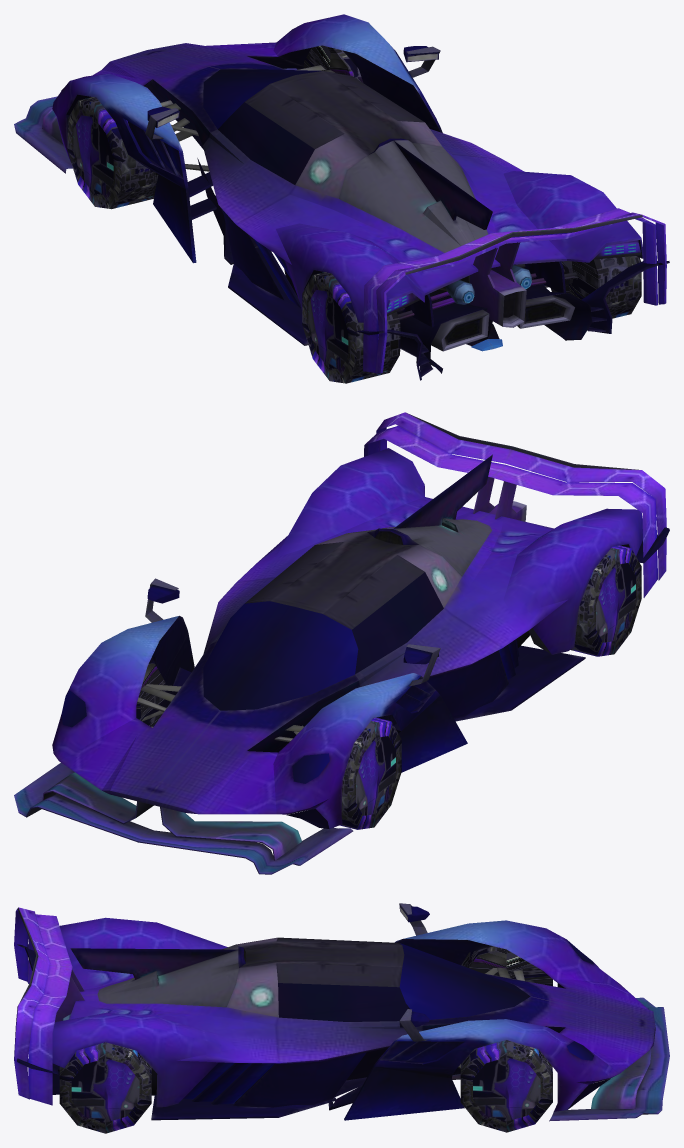
3 views of the same model, one above another, from view 1: azimuth 30°, elevation 25°; view 2: azimuth 150°, elevation 25°; view 3: azimuth 270°, elevation 25° (orthographic). The views are drawn at different scales.
Parts seen in each view (by area): view 1: body; view 2: body; view 3: body.
Part boxes in pixels (bbox=[...]): body: bbox=[14, 14, 669, 383]; body: bbox=[14, 412, 669, 874]; body: bbox=[14, 903, 669, 1133].
Bounding box in the file's own units: 2.08 × 1.01 × 4.74.
Materials: 1 (1 with a texture image).
